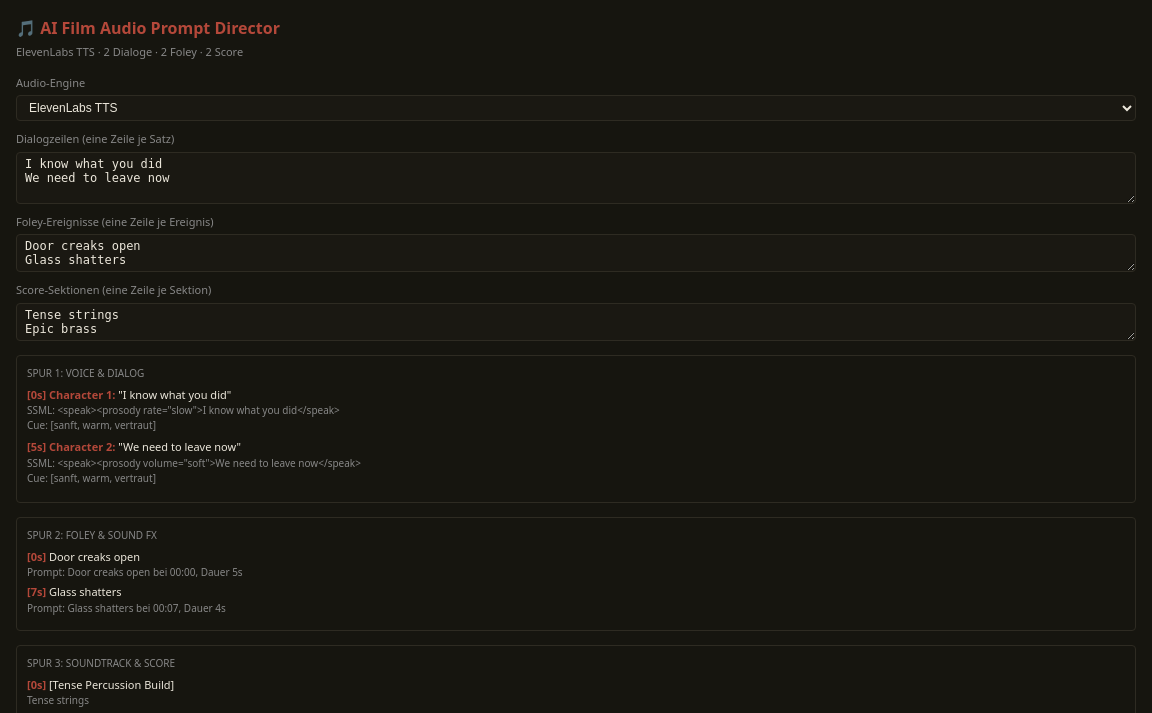
Test case: AiFilmAudioPromptGeneratorModal › reagiert auf Engine-Auswahl
Select "Suno AI" in the dropdown with test id "audio-engine-select" at [576, 108], box [16, 95, 1136, 121]
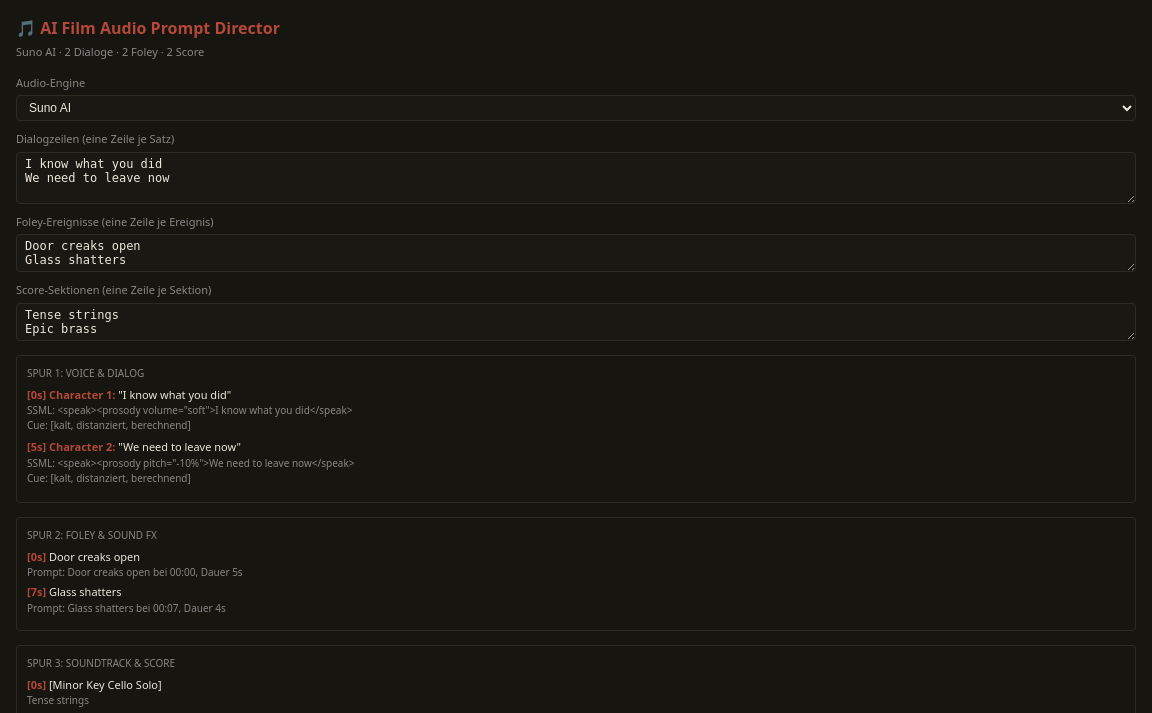
Expected: the element with test id "ai-film-audio-prompt-generator-modal" shows "Suno", [16, 44, 56, 59]
